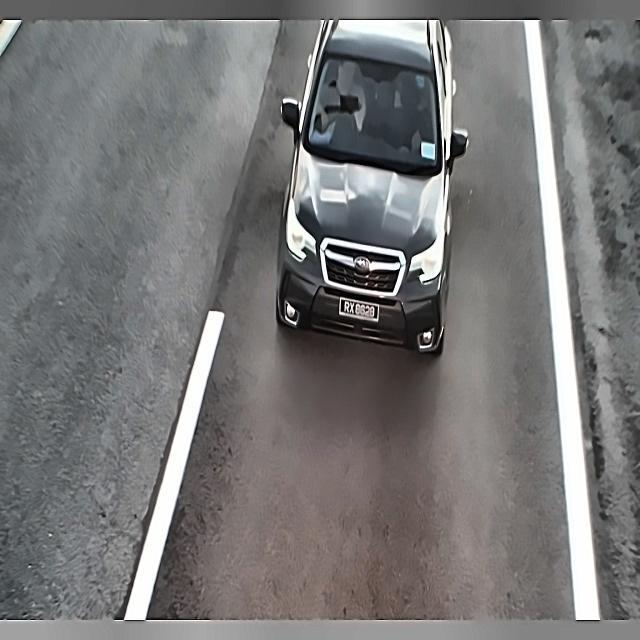car: (338, 292, 382, 331)
